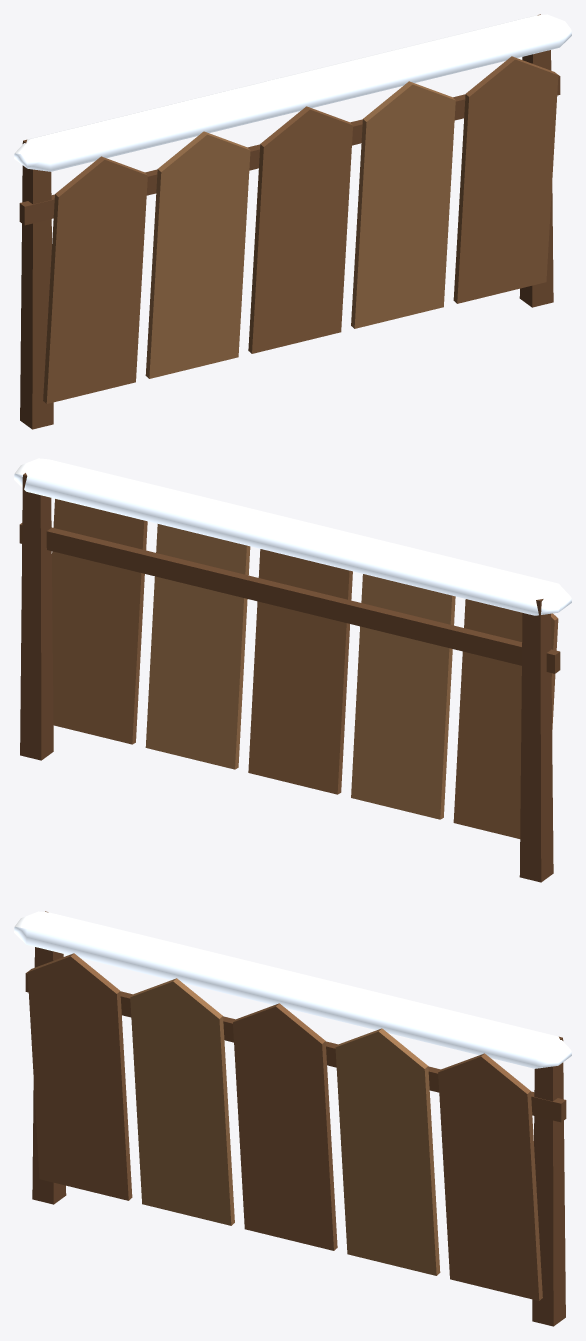
Rendered from snow-fence-small.glb.
The picture shows the model from 3 angles, top to bottom: view 1: azimuth 30°, elevation 25°; view 2: azimuth 150°, elevation 25°; view 3: azimuth 330°, elevation 25°; orthographic projection.
Parts seen in each view (by area): view 1: snow-fence-small; view 2: snow-fence-small; view 3: snow-fence-small.
Part boxes in pixels (x1,y1,x2,y2): snow-fence-small: [14, 14, 571, 429]; snow-fence-small: [14, 458, 571, 882]; snow-fence-small: [14, 911, 571, 1326].
Size of the model in its own units: 6.1 by 3.1 by 0.5712.
